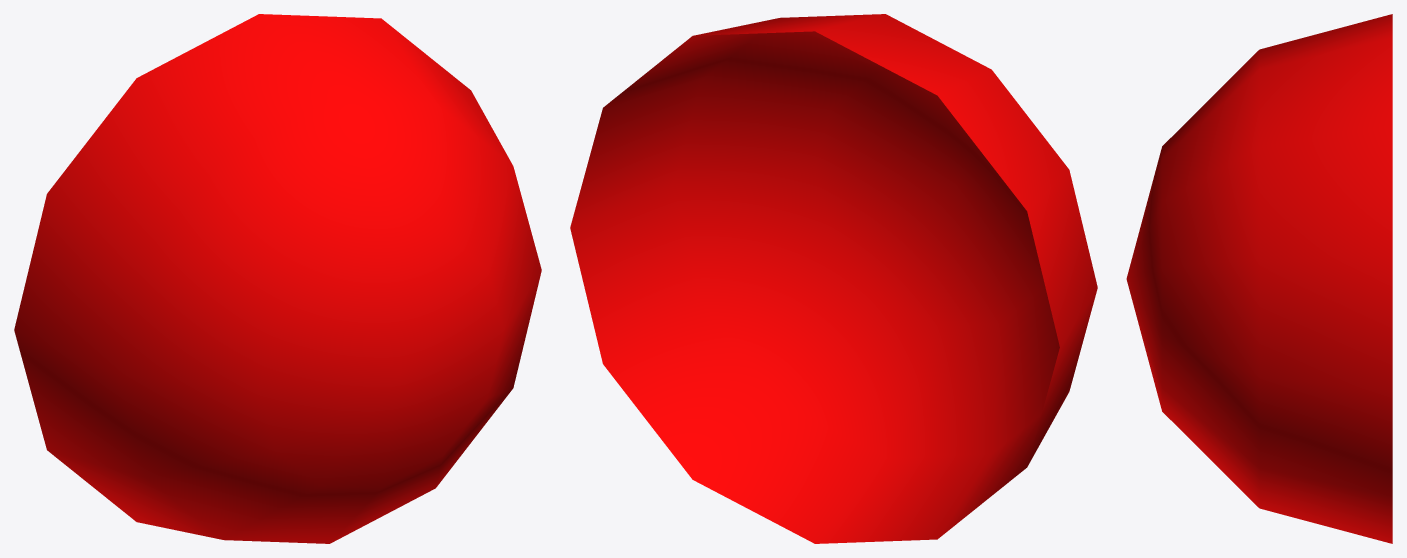
File: Light_Sphere.FBX
3 views of the same model, side by side, from view 1: azimuth 30°, elevation 25°; view 2: azimuth 150°, elevation 25°; view 3: azimuth 270°, elevation 25° (orthographic). The views are drawn at different scales.
Visible parts, largest first — view 1: Light_Sphere; view 2: Light_Sphere; view 3: Light_Sphere.
Part boxes in pixels (x1=…): Light_Sphere: x1=14, y1=14, x2=541, y2=543; Light_Sphere: x1=570, y1=14, x2=1097, y2=543; Light_Sphere: x1=1126, y1=14, x2=1392, y2=543.
Size of the model in its own units: 10 by 10 by 5.
